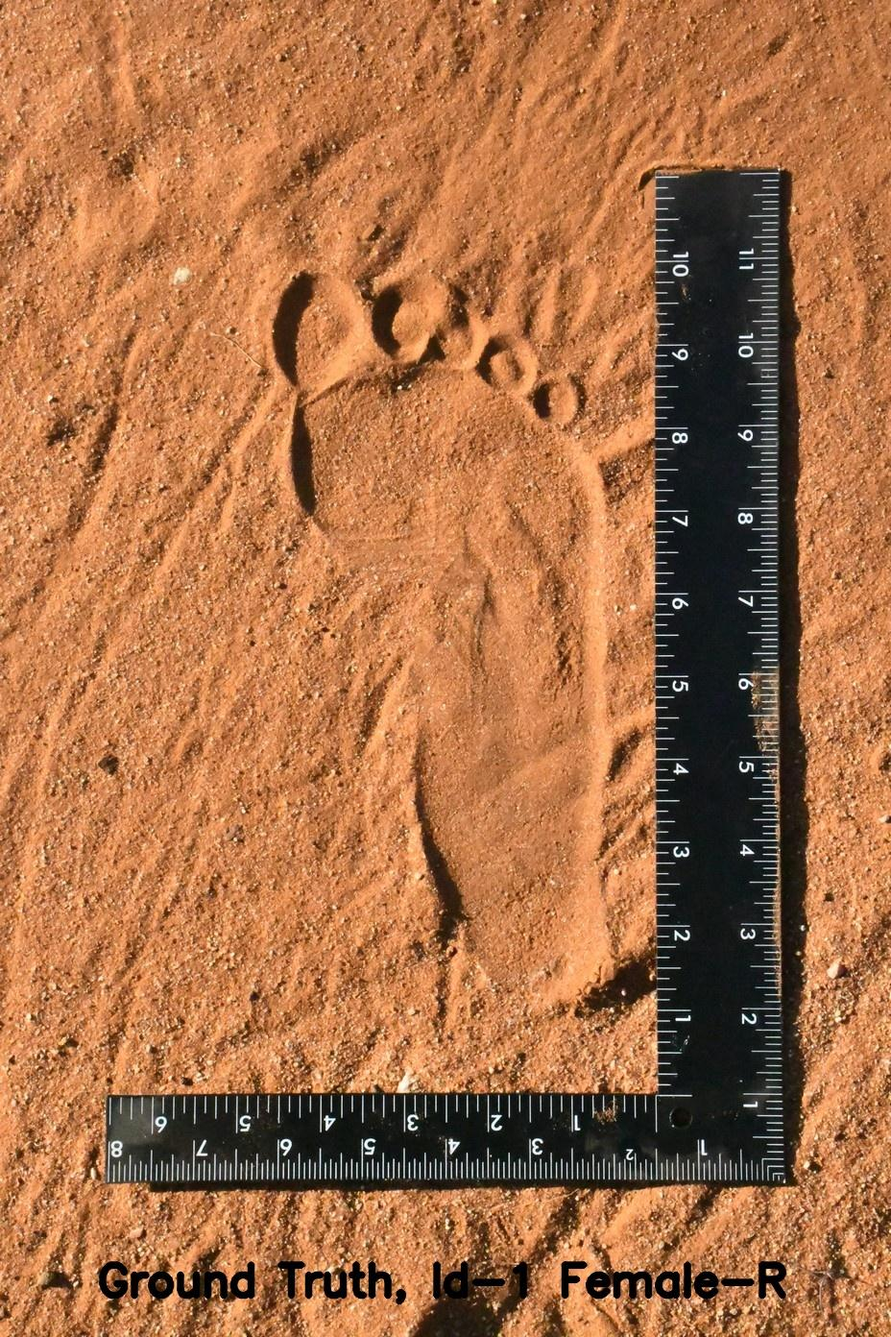human_footprint: (244, 215, 660, 1057)
